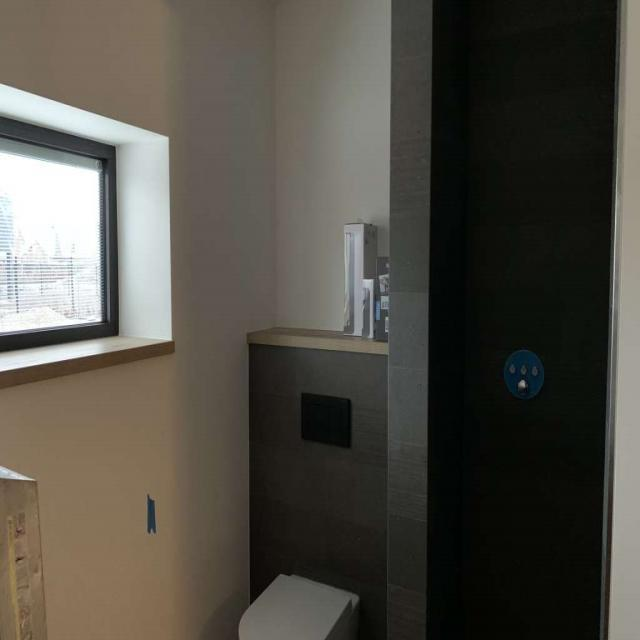douche: (416, 0, 624, 640)
toilet: (238, 387, 362, 640)
